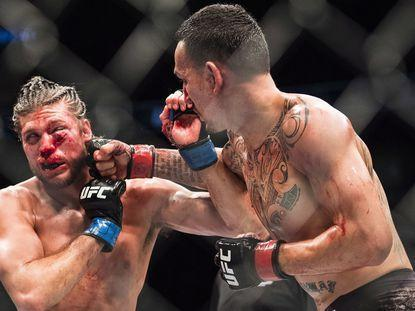Fire: (321, 189, 359, 257), (39, 124, 69, 158)
